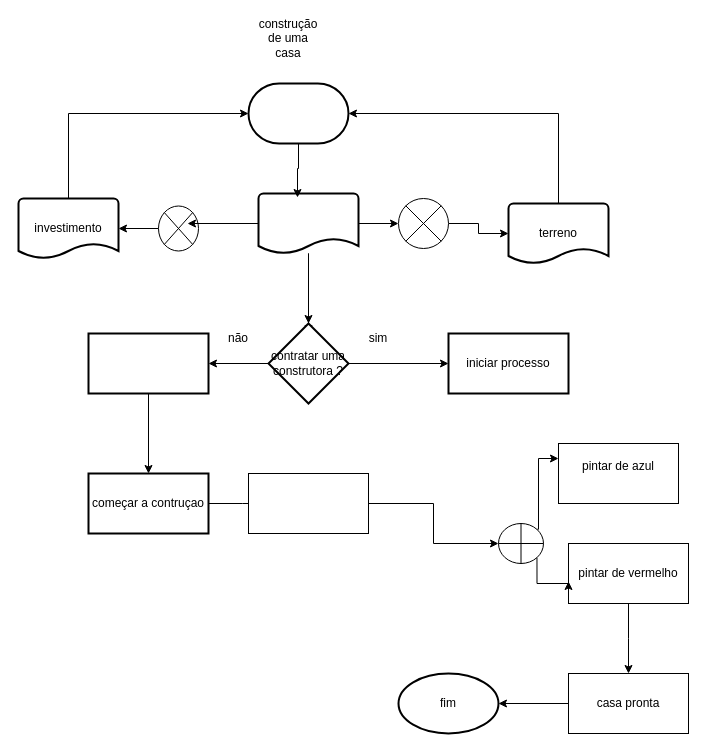
Some shapes in this 706 by 752 pixel diagram are drawn without their labels. Here are the shapes that lost their labels. From the top down, the centre of each, then its label:
(298,113): inicio
(308,223): aprovação
(148,363): contratar uma mestrede obras
(308,503): pintar a casa
